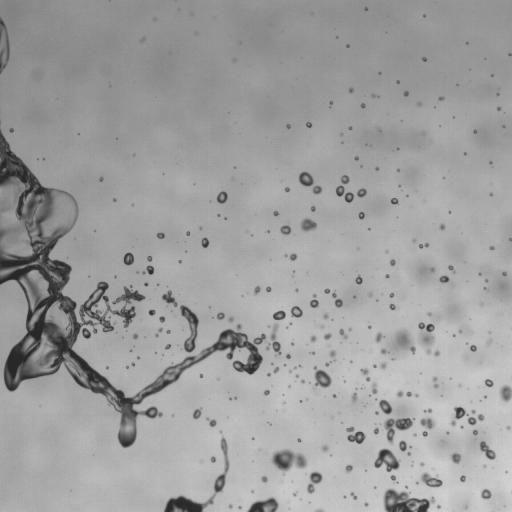droplet: (272, 449, 307, 474), (383, 417, 413, 443), (374, 448, 400, 471), (113, 286, 144, 304), (336, 175, 353, 202), (396, 329, 415, 353), (314, 366, 331, 388), (346, 426, 365, 443), (421, 472, 442, 487), (450, 407, 466, 426), (420, 417, 436, 436), (162, 290, 177, 306), (298, 171, 313, 186), (499, 385, 511, 402), (301, 218, 316, 231), (467, 414, 484, 425), (379, 399, 391, 414), (123, 252, 133, 265), (291, 306, 302, 317), (217, 191, 227, 203), (273, 310, 285, 320), (310, 294, 318, 307), (451, 453, 461, 463), (481, 489, 491, 499), (280, 225, 290, 234), (399, 440, 407, 451), (312, 185, 321, 194), (357, 188, 366, 197), (201, 237, 209, 247), (375, 332, 383, 342), (193, 408, 201, 418), (146, 265, 154, 274), (207, 418, 216, 426), (439, 275, 449, 282), (485, 379, 493, 387), (355, 275, 362, 284), (289, 253, 297, 260), (351, 393, 357, 402), (217, 312, 224, 319), (396, 390, 403, 397), (345, 465, 352, 472), (390, 198, 398, 204), (254, 286, 260, 294), (358, 212, 364, 219), (157, 232, 164, 238), (448, 265, 454, 272), (148, 309, 155, 315), (324, 333, 331, 339), (310, 335, 316, 342), (380, 348, 387, 354), (329, 350, 335, 357), (380, 362, 386, 369), (390, 475, 396, 482), (389, 304, 395, 310), (159, 316, 165, 322), (470, 345, 476, 351), (322, 445, 328, 451), (261, 476, 267, 482), (460, 475, 465, 482), (351, 492, 356, 499), (390, 259, 395, 265), (324, 288, 330, 293), (228, 316, 233, 322), (434, 350, 439, 356), (373, 428, 378, 434), (424, 408, 431, 412), (306, 122, 311, 127), (440, 224, 445, 229), (266, 286, 271, 291), (165, 344, 170, 349), (273, 367, 278, 372), (264, 390, 269, 395), (406, 392, 412, 396), (473, 429, 477, 435), (404, 91, 408, 96), (311, 206, 315, 211), (273, 211, 278, 215), (147, 256, 151, 261), (430, 267, 434, 272), (133, 334, 137, 339), (286, 354, 290, 359), (325, 362, 330, 366), (211, 457, 215, 462), (422, 57, 426, 61), (349, 88, 353, 92), (439, 96, 443, 100), (361, 103, 365, 107), (9, 128, 13, 132), (354, 156, 358, 160), (99, 177, 103, 181), (285, 187, 289, 191), (389, 293, 393, 297), (323, 314, 327, 318), (471, 409, 475, 413), (228, 504, 232, 508), (287, 124, 290, 128), (502, 272, 506, 275), (144, 282, 147, 286), (458, 330, 462, 333), (487, 340, 491, 343), (301, 379, 304, 383), (420, 462, 423, 466), (293, 492, 296, 496), (364, 503, 368, 506), (417, 102, 420, 105), (497, 107, 500, 110), (490, 246, 493, 249), (385, 274, 388, 277), (484, 287, 487, 290), (368, 293, 371, 296), (166, 330, 169, 333), (311, 351, 314, 354), (267, 373, 270, 376), (200, 374, 203, 377), (437, 505, 440, 508), (297, 439, 301, 441), (376, 167, 378, 170), (186, 232, 189, 234), (295, 289, 298, 291), (368, 326, 371, 328), (131, 363, 134, 365), (295, 375, 298, 377), (333, 395, 336, 397), (414, 394, 417, 396), (375, 411, 377, 414), (507, 426, 509, 429), (407, 452, 410, 454), (372, 95, 374, 97), (490, 193, 492, 195), (479, 272, 481, 274), (485, 279, 487, 281), (126, 366, 128, 368), (294, 367, 296, 369)
ligament: (0, 130, 263, 447), (163, 436, 229, 511), (383, 488, 434, 511), (418, 312, 440, 354), (0, 18, 9, 73), (266, 323, 281, 356), (247, 497, 278, 511), (307, 471, 322, 493), (480, 441, 495, 459), (332, 292, 342, 307), (360, 368, 370, 381), (339, 329, 347, 338), (371, 382, 377, 394), (155, 328, 162, 336), (432, 376, 437, 387), (419, 243, 428, 248), (315, 509, 323, 511), (510, 238, 511, 241)
